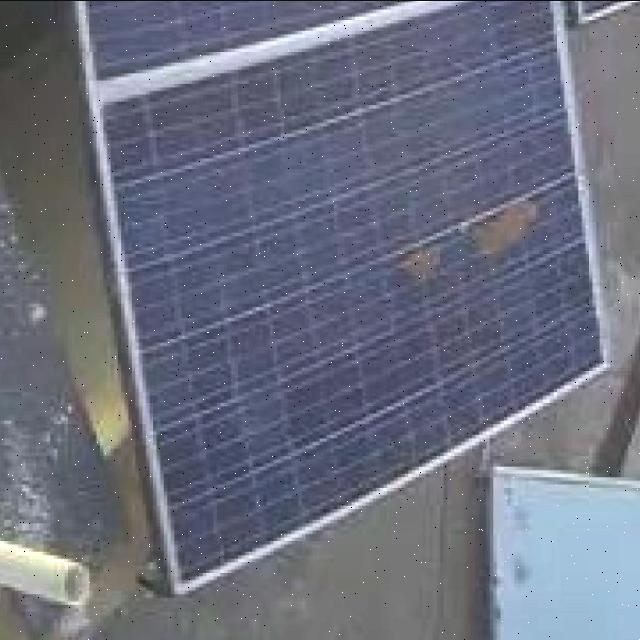Anomaly Solar Panel: (50, 0, 640, 588)
Surface Contaminant: (447, 173, 556, 278), (387, 229, 453, 295)
